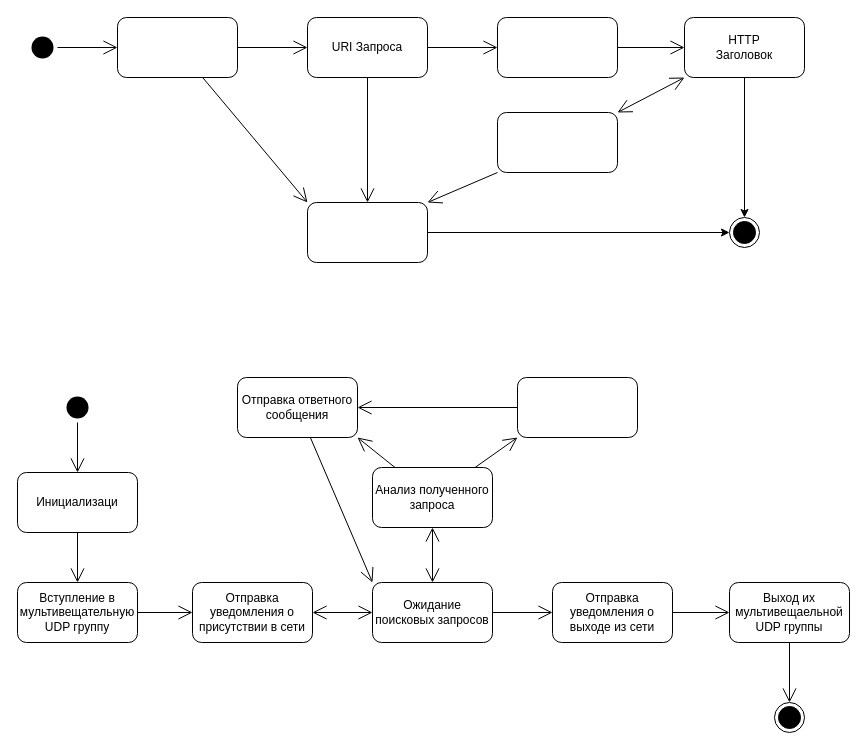
Image size: 867x750. Some labels were removed from this diagram. Each missing label, with the box of its shape:
HTTP Метод: (116, 16, 238, 78)
Добавление к ответу необязательных заголовков: (516, 376, 638, 438)
Значение заголовка: (496, 112, 618, 172)
Название протокола: (496, 16, 618, 78)
Обработка ошибки в пакете: (306, 202, 428, 262)
